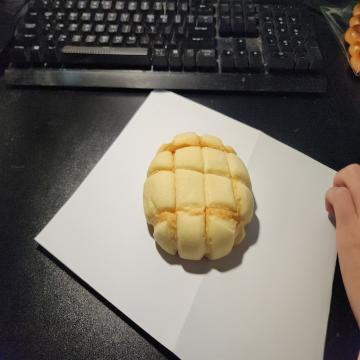melon_bread: (142, 132, 256, 262)
